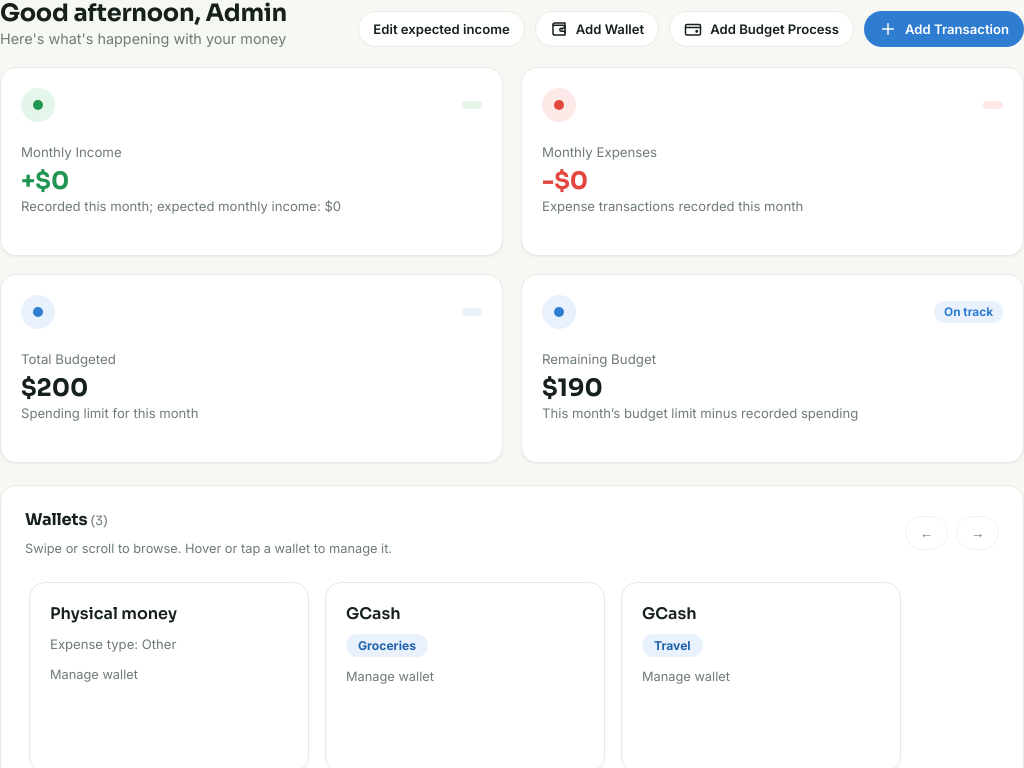
Test: tags duplicate wallets and deletes the selected wallet directly from its card
Expected: the text "Travel" is shown, top-left (642, 634), bottom-right (703, 657)
Expected: the text "Groceries" is shown, top-left (346, 634), bottom-right (428, 657)
Click the button with aria-label "Manage GCash · Travel" at coordinates (761, 650), box top-left (638, 599), bottom-right (884, 701)
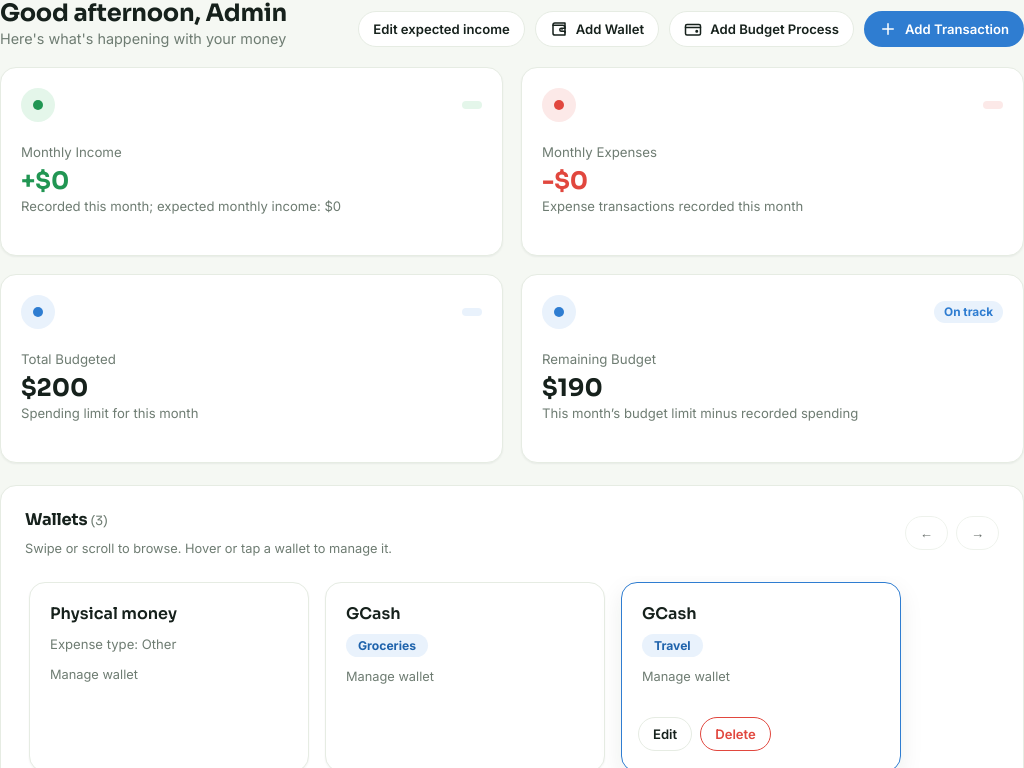
Click the button with aria-label "Edit GCash · Travel" at coordinates (665, 734), box top-left (638, 717), bottom-right (692, 751)
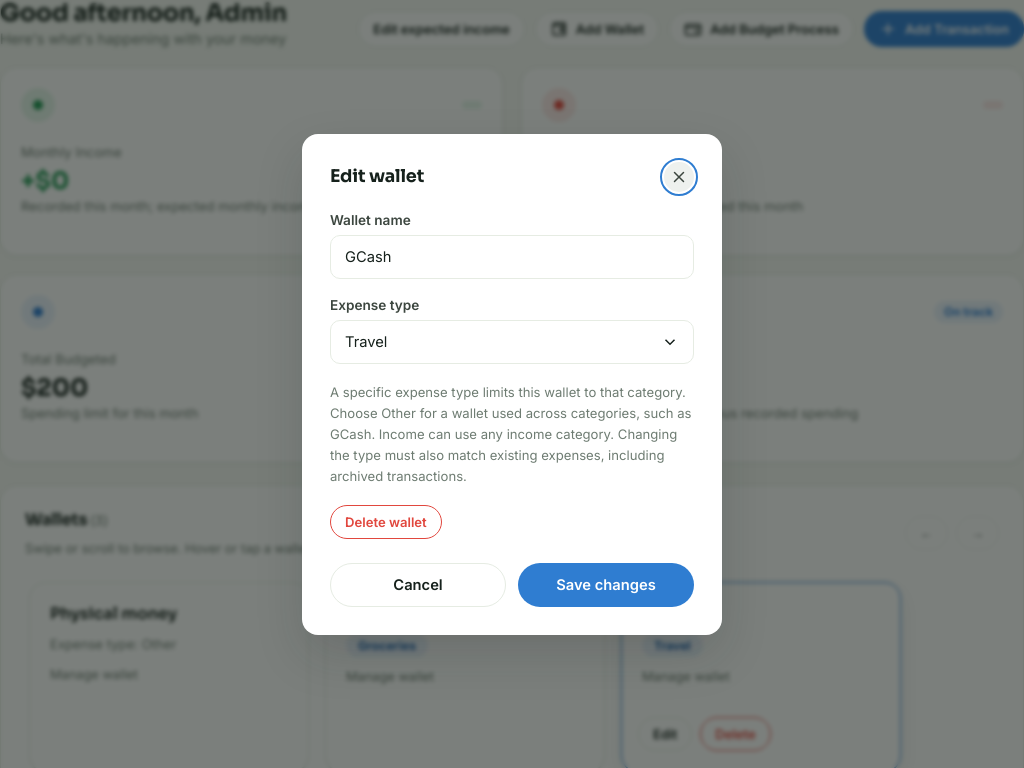
Now the dropdown labelled "Expense type" holds "Travel", box top-left (330, 320), bottom-right (694, 364)
Click the button "Save changes" at coordinates (606, 584), box top-left (518, 562), bottom-right (694, 606)
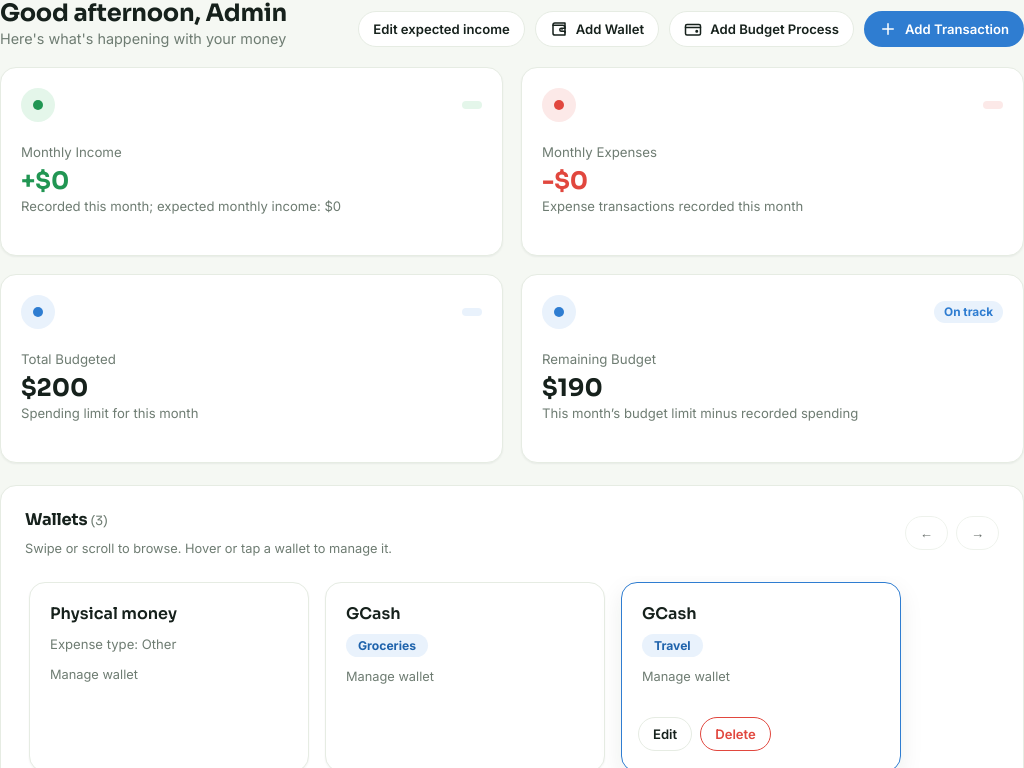
Now the dialog is gone
Click the button with aria-label "Delete GCash · Travel" at coordinates (736, 734), box top-left (700, 717), bottom-right (771, 751)
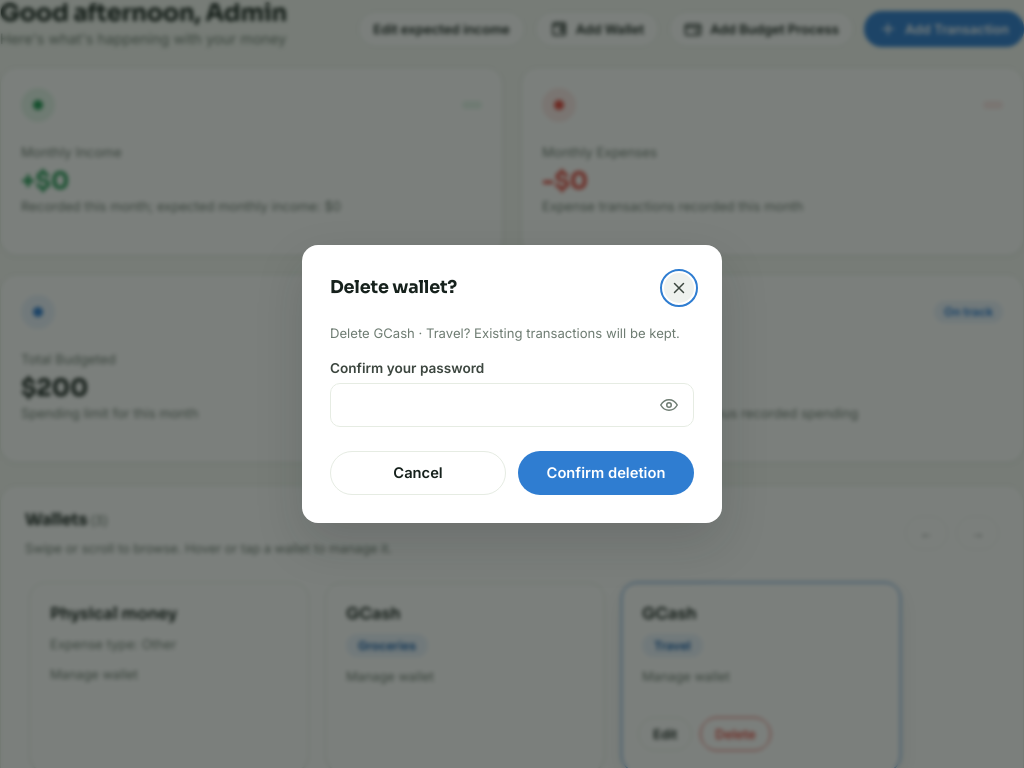
Now the text "Delete GCash · Travel? Existing transactions will be kept." is shown, box top-left (330, 323), bottom-right (694, 344)
Type "confirmed-password" into the password field labelled "Confirm your password" at coordinates (512, 405), box top-left (330, 383), bottom-right (694, 427)
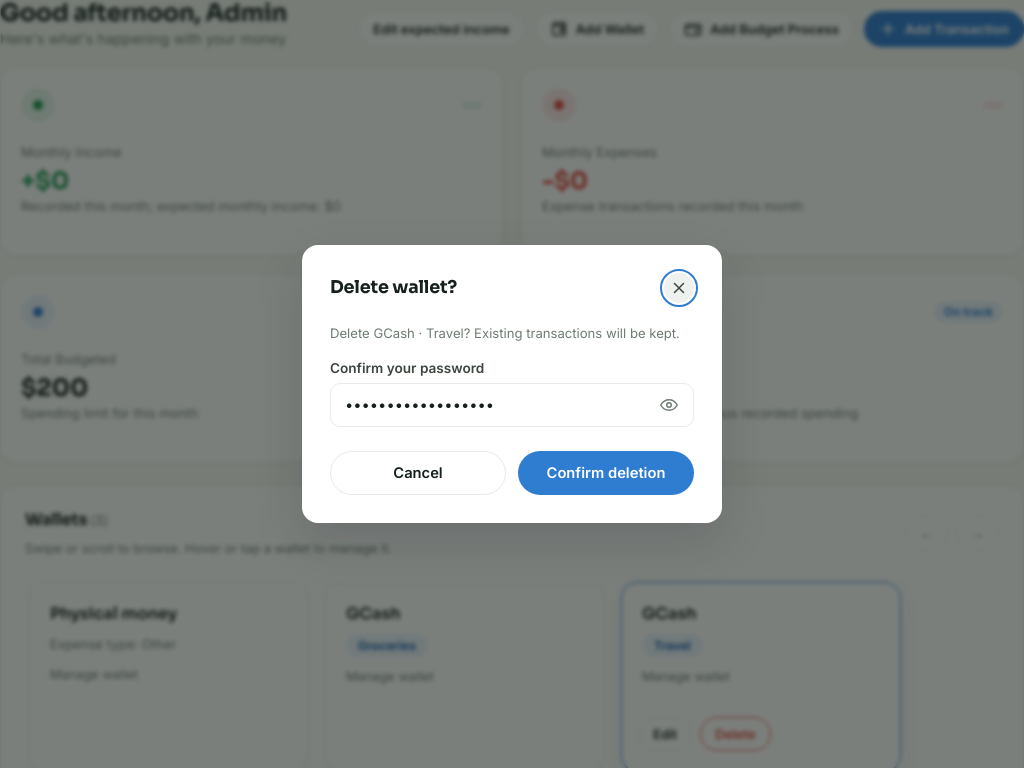
Click the button "Confirm deletion" at coordinates (606, 473), box top-left (518, 451), bottom-right (694, 495)
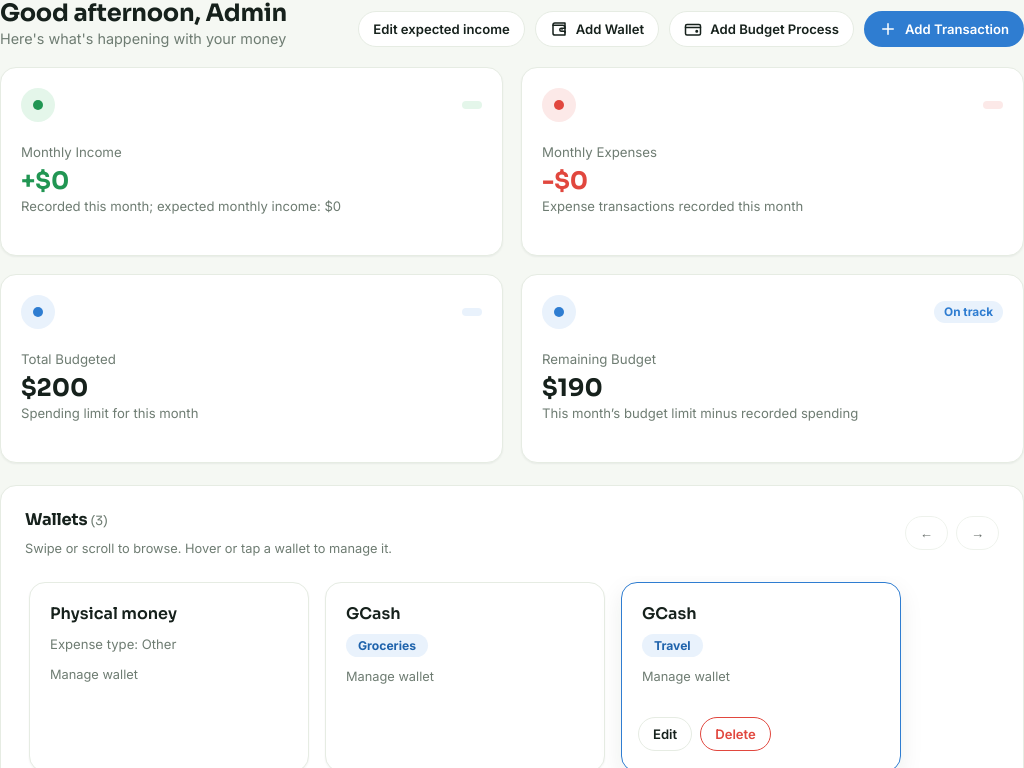
Now the dialog is gone
